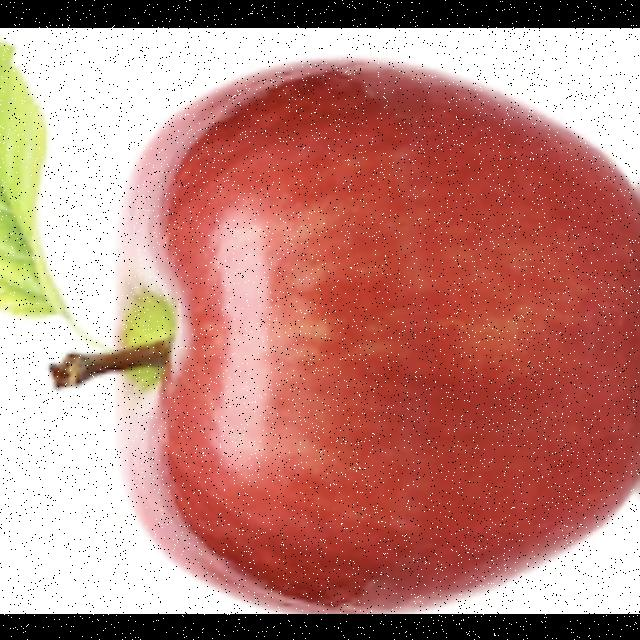Apel Segar: (78, 27, 640, 613)
